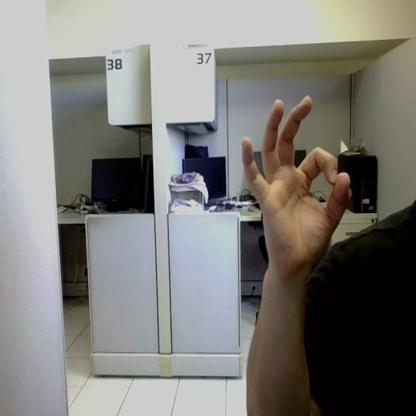F: (242, 97, 351, 271)
